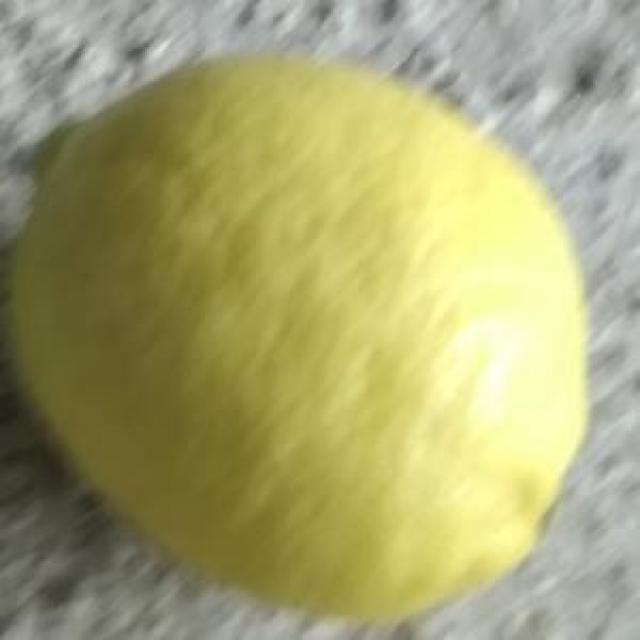lemon: (8, 56, 592, 624)
